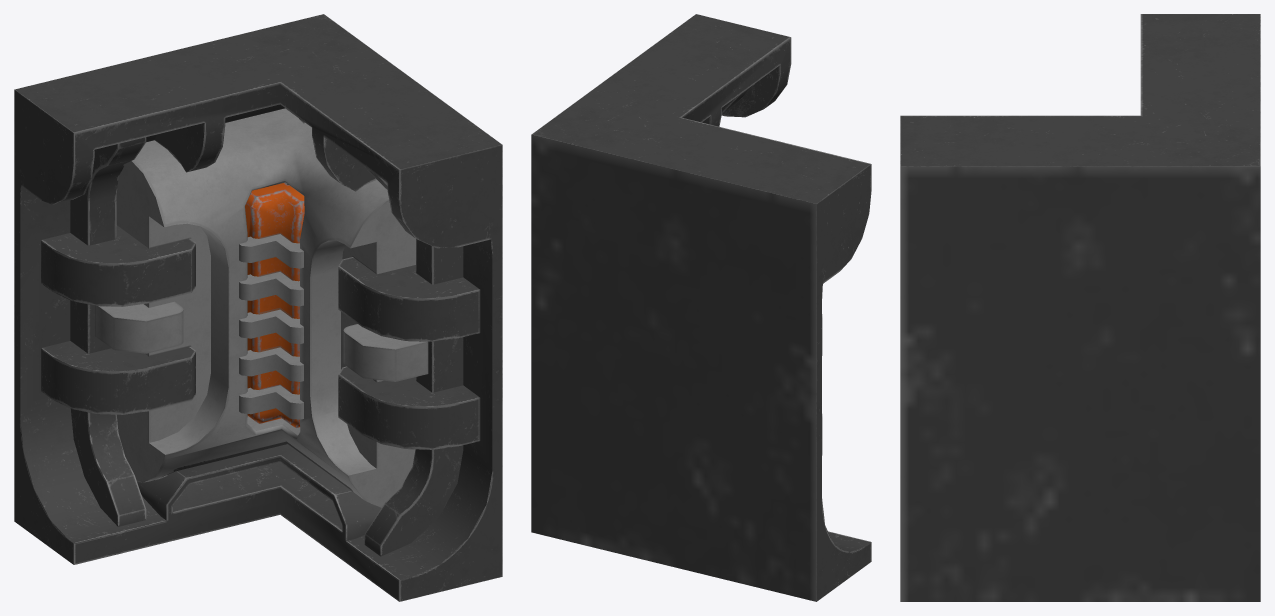
File: tile_wall10_ConerIn.FBX
3 renders of one model, left to right at view 1: azimuth 30°, elevation 25°; view 2: azimuth 150°, elevation 25°; view 3: azimuth 270°, elevation 25°, orthographic. The views are drawn at different scales.
Visible parts, largest first — view 1: tile_wall10_ConerIn; view 2: tile_wall10_ConerIn; view 3: tile_wall10_ConerIn.
Boxes of the visible parts, box(x1,y1,x2,y2) form: tile_wall10_ConerIn: box(14, 14, 502, 601); tile_wall10_ConerIn: box(531, 14, 871, 601); tile_wall10_ConerIn: box(900, 14, 1260, 601).
Bounding box in the file's own units: 150 × 200 × 150.
Materials: 1 (1 with a texture image).
